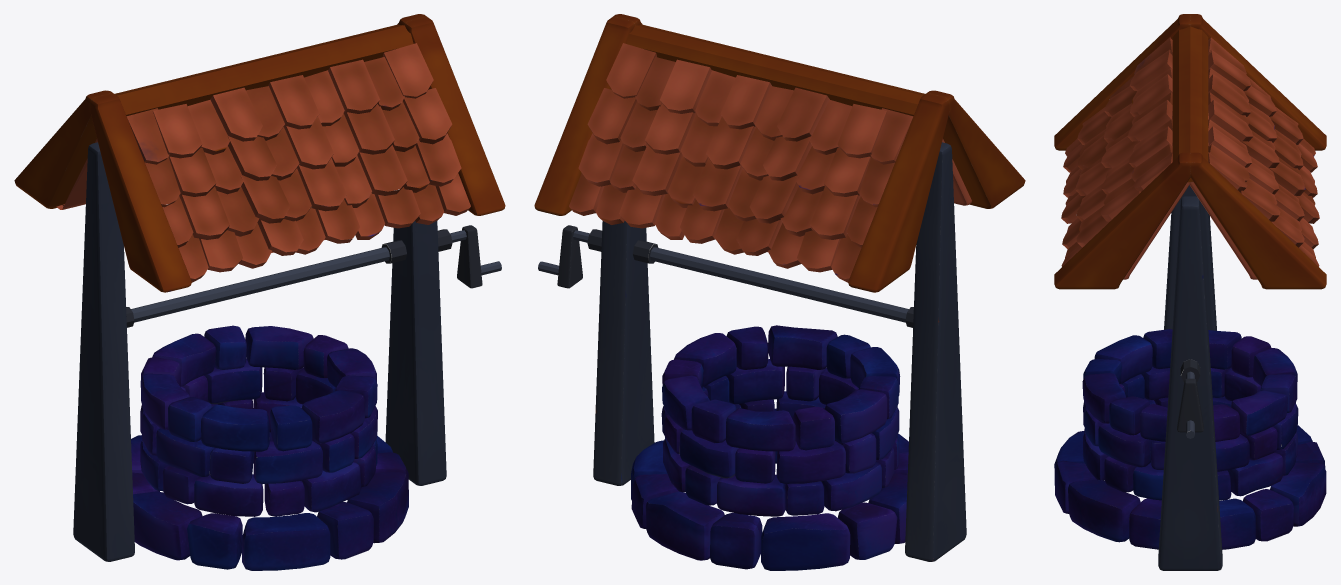
Rendered from POZO_R.fbx.
3 views of the same model, side by side, from view 1: azimuth 30°, elevation 25°; view 2: azimuth 150°, elevation 25°; view 3: azimuth 270°, elevation 25° (orthographic). The views are drawn at different scales.
Parts seen in each view (by area): view 1: fuente_pozo:pCube17_initialShadingGroup, fuente_pozo:polySurface44_initialShadingGroup, fuente_pozo:polySurface64_initialShadingGroup, fuente_pozo:pCylinder7_initialShadingGroup_10, fuente_pozo:pCylinder7_initialShadingGroup_1, fuente_pozo:pCylinder7_initialShadingGroup_7, fuente_pozo:pCylinder7_initialShadingGroup_4, fuente_pozo:pCylinder7_initialShadingGroup_9, fuente_pozo:pCylinder7_initialShadingGroup_3, fuente_pozo:pCylinder7_initialShadingGroup_5; view 2: fuente_pozo:pCube17_initialShadingGroup, fuente_pozo:polySurface44_initialShadingGroup_1, fuente_pozo:polySurface64_initialShadingGroup, fuente_pozo:pCylinder7_initialShadingGroup_10, fuente_pozo:pCylinder7_initialShadingGroup_1, fuente_pozo:pCylinder7_initialShadingGroup_7, fuente_pozo:pCylinder7_initialShadingGroup_4, fuente_pozo:pCylinder7_initialShadingGroup_9, fuente_pozo:pCylinder7_initialShadingGroup_3; view 3: fuente_pozo:pCube17_initialShadingGroup, fuente_pozo:pCylinder7_initialShadingGroup_1, fuente_pozo:pCylinder7_initialShadingGroup_4, fuente_pozo:polySurface44_initialShadingGroup, fuente_pozo:polySurface44_initialShadingGroup_1, fuente_pozo:pCylinder7_initialShadingGroup_7, fuente_pozo:pCylinder7_initialShadingGroup_10, fuente_pozo:polySurface64_initialShadingGroup, fuente_pozo:pCylinder7_initialShadingGroup_5, fuente_pozo:pCylinder7_initialShadingGroup_3.
Part boxes in pixels (x1,y1,x2,y2): fuente_pozo:pCube17_initialShadingGroup: (131, 325, 408, 570); fuente_pozo:polySurface44_initialShadingGroup: (126, 43, 470, 282); fuente_pozo:polySurface64_initialShadingGroup: (73, 142, 134, 561); fuente_pozo:pCylinder7_initialShadingGroup_10: (14, 90, 191, 292); fuente_pozo:pCylinder7_initialShadingGroup_1: (385, 221, 446, 485); fuente_pozo:pCylinder7_initialShadingGroup_7: (115, 24, 413, 115); fuente_pozo:pCylinder7_initialShadingGroup_4: (397, 14, 505, 215); fuente_pozo:pCylinder7_initialShadingGroup_9: (131, 247, 389, 322); fuente_pozo:pCylinder7_initialShadingGroup_3: (457, 225, 482, 288); fuente_pozo:pCylinder7_initialShadingGroup_5: (56, 139, 384, 252); fuente_pozo:pCube17_initialShadingGroup: (631, 325, 908, 570); fuente_pozo:polySurface44_initialShadingGroup_1: (569, 43, 913, 282); fuente_pozo:polySurface64_initialShadingGroup: (905, 142, 966, 561); fuente_pozo:pCylinder7_initialShadingGroup_10: (848, 90, 1025, 292); fuente_pozo:pCylinder7_initialShadingGroup_1: (593, 221, 654, 485); fuente_pozo:pCylinder7_initialShadingGroup_7: (626, 24, 924, 116); fuente_pozo:pCylinder7_initialShadingGroup_4: (534, 14, 642, 215); fuente_pozo:pCylinder7_initialShadingGroup_9: (650, 247, 908, 322); fuente_pozo:pCylinder7_initialShadingGroup_3: (557, 225, 582, 288); fuente_pozo:pCube17_initialShadingGroup: (1054, 329, 1326, 549); fuente_pozo:pCylinder7_initialShadingGroup_1: (1158, 196, 1222, 570); fuente_pozo:pCylinder7_initialShadingGroup_4: (1054, 152, 1326, 289); fuente_pozo:polySurface44_initialShadingGroup: (1061, 37, 1172, 266); fuente_pozo:polySurface44_initialShadingGroup_1: (1208, 37, 1319, 266); fuente_pozo:pCylinder7_initialShadingGroup_7: (1172, 26, 1208, 182); fuente_pozo:pCylinder7_initialShadingGroup_10: (1054, 14, 1326, 150); fuente_pozo:polySurface64_initialShadingGroup: (1164, 185, 1216, 330); fuente_pozo:pCylinder7_initialShadingGroup_5: (1123, 113, 1257, 279); fuente_pozo:pCylinder7_initialShadingGroup_3: (1177, 378, 1203, 432).
Size of the model in its own units: 1323 by 1391 by 837.
